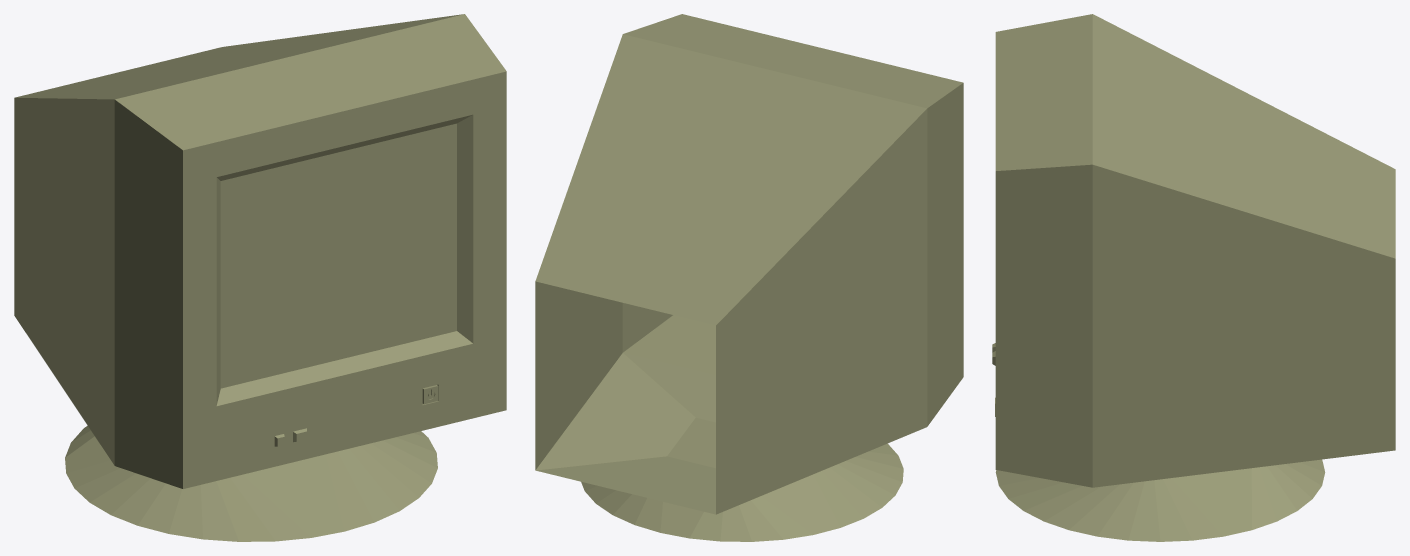
The model's file is monitor.glb.
3 views of the same model, side by side, from view 1: azimuth 30°, elevation 25°; view 2: azimuth 150°, elevation 25°; view 3: azimuth 270°, elevation 25° (orthographic). The views are drawn at different scales.
Parts seen in each view (by area): view 1: Cube; view 2: Cube; view 3: Cube.
Part boxes in pixels (box(x1,y1,x2,y2)): Cube: box(14, 14, 506, 541); Cube: box(535, 14, 963, 541); Cube: box(992, 14, 1395, 541).
Size of the model in its own units: 2.16 by 2.57 by 2.45.
